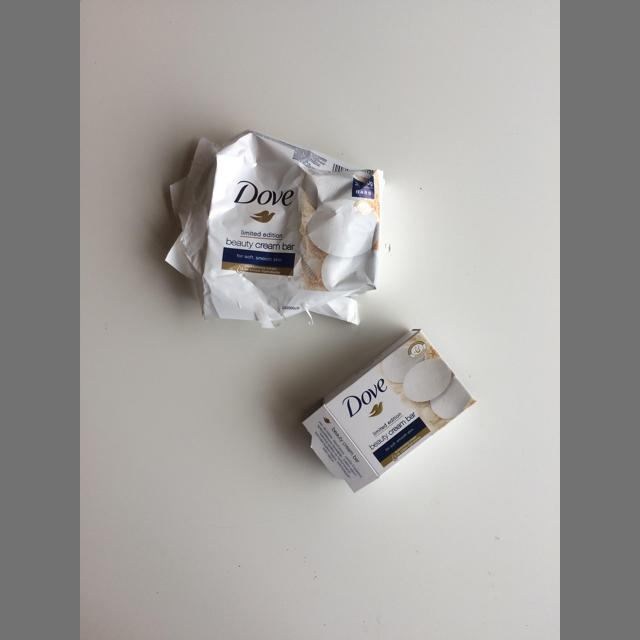litter: (165, 129, 385, 329), (301, 329, 477, 493)
